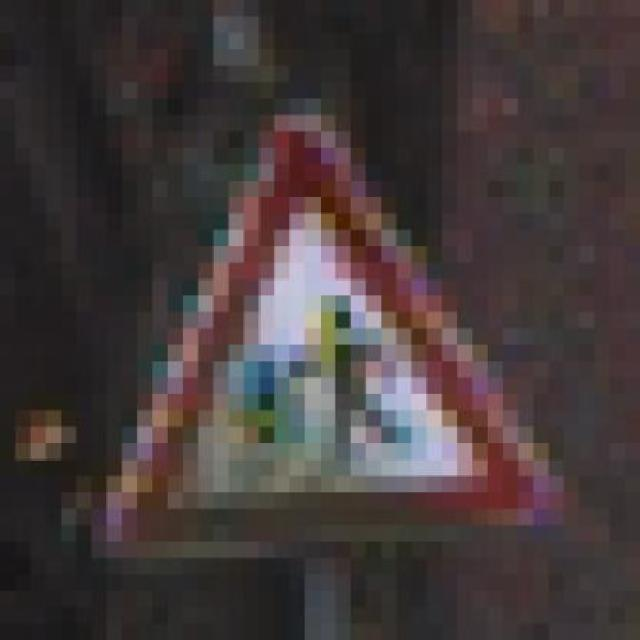Beware of children: (61, 98, 579, 574)
